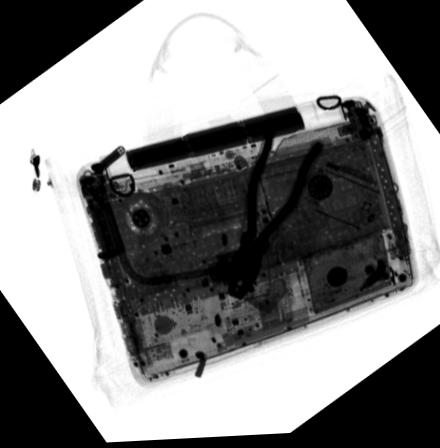Pliers: (225, 126, 323, 303)
